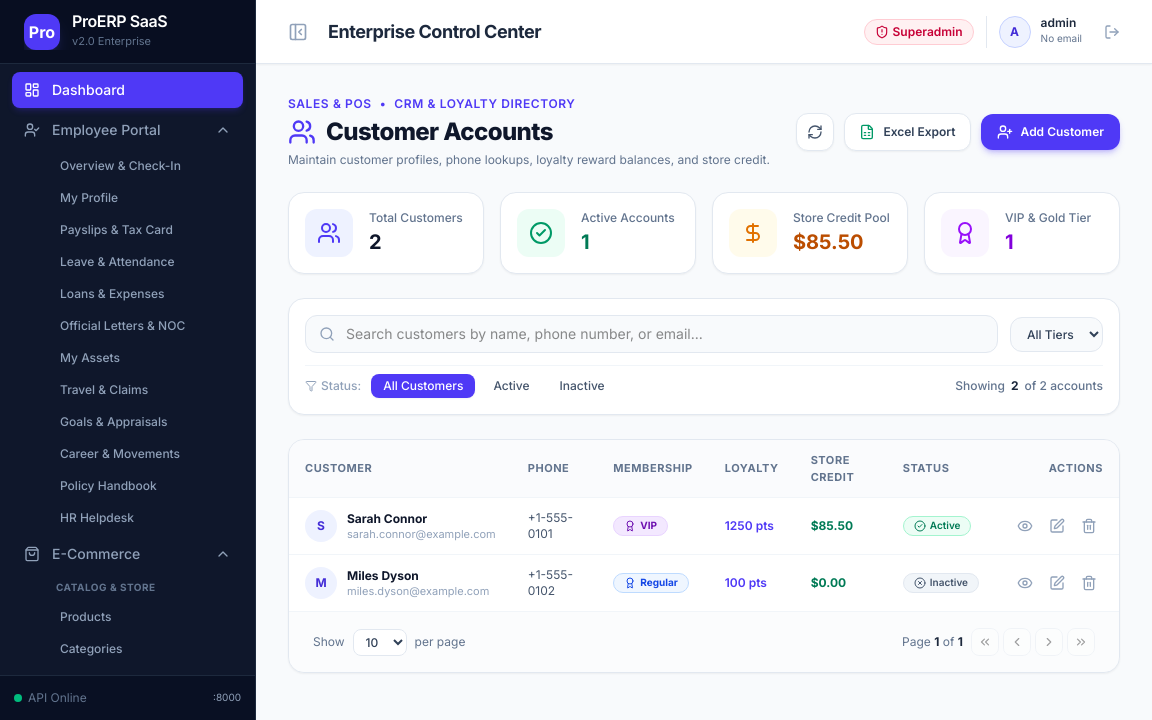
Test: Ecommerce Customer Directory In-Place Non-Destructive Filtering Audit › performs in-place search without table flickering
Type "Sarah" into the field with placeholder "Search customers by name, phone number, or email..." at coordinates (652, 334), box [305,315,998,353]
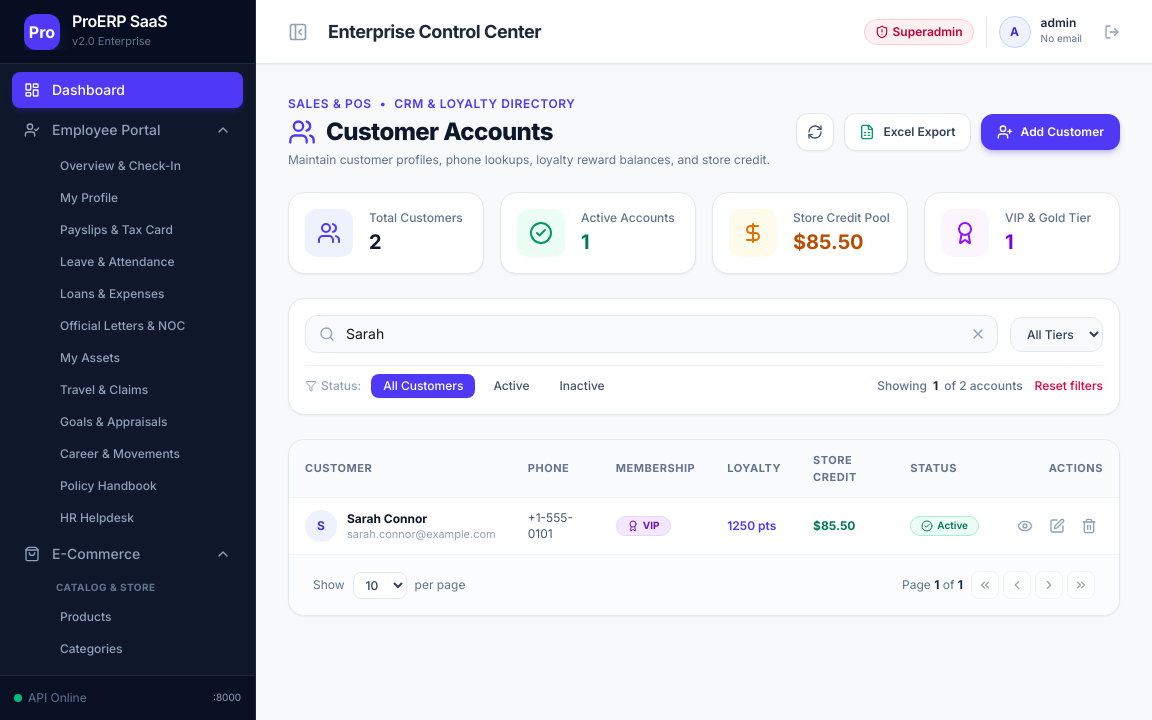
Expected: the button "Sarah Connor" is shown, [347,511,427,527]
Result: the button "Miles Dyson" is gone
